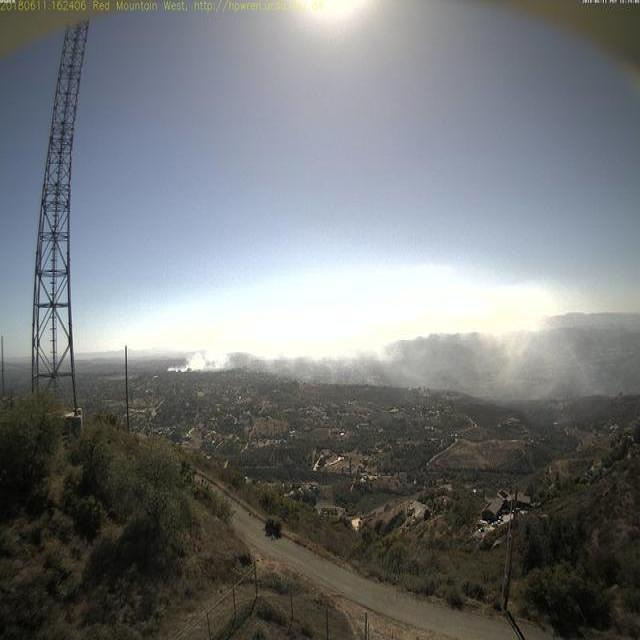smoke: (165, 312, 605, 407)
